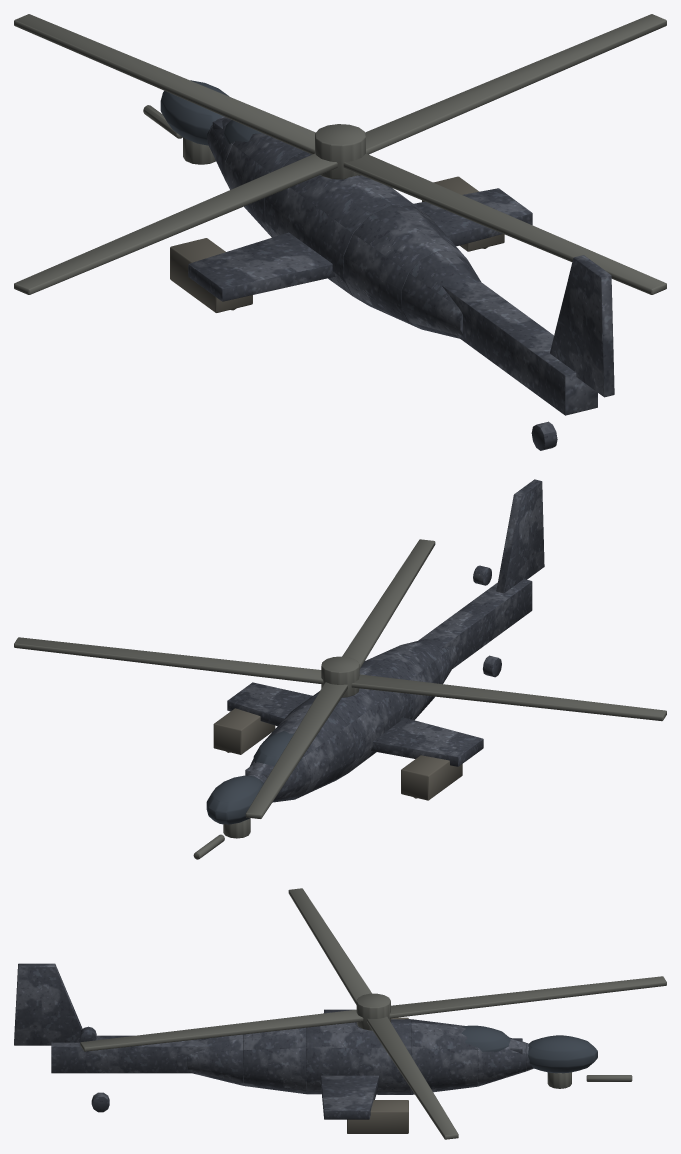
The model's file is hel_e3_us_attack_LOD0.glb.
3 renders of one model, top to bottom at view 1: azimuth 30°, elevation 25°; view 2: azimuth 150°, elevation 25°; view 3: azimuth 270°, elevation 25°, orthographic. The views are drawn at different scales.
Parts seen in each view (by area): view 1: hel_e3_us_attack_LOD0_body, hel_e3_us_attack_LOD0_gun, hel_e3_us_attack_LOD0_deck, hel_e3_us_attack_LOD0_glass; view 2: hel_e3_us_attack_LOD0_body, hel_e3_us_attack_LOD0_gun, hel_e3_us_attack_LOD0_deck, hel_e3_us_attack_LOD0_glass; view 3: hel_e3_us_attack_LOD0_body, hel_e3_us_attack_LOD0_gun, hel_e3_us_attack_LOD0_glass, hel_e3_us_attack_LOD0_deck.
Part boxes in pixels (box(x1,y1,x2,y2)): hel_e3_us_attack_LOD0_body: box(188, 116, 614, 450); hel_e3_us_attack_LOD0_gun: box(14, 14, 666, 294); hel_e3_us_attack_LOD0_deck: box(170, 176, 504, 312); hel_e3_us_attack_LOD0_glass: box(160, 80, 262, 145); hel_e3_us_attack_LOD0_body: box(227, 479, 544, 802); hel_e3_us_attack_LOD0_gun: box(14, 539, 666, 859); hel_e3_us_attack_LOD0_deck: box(213, 708, 462, 800); hel_e3_us_attack_LOD0_glass: box(206, 731, 302, 824); hel_e3_us_attack_LOD0_body: box(14, 963, 533, 1119); hel_e3_us_attack_LOD0_gun: box(80, 888, 666, 1139); hel_e3_us_attack_LOD0_glass: box(461, 1025, 597, 1073); hel_e3_us_attack_LOD0_deck: box(347, 1017, 408, 1133).
Bounding box in the file's own units: 14.18 × 3.87 × 15.79.
4 materials, 1 textured.
